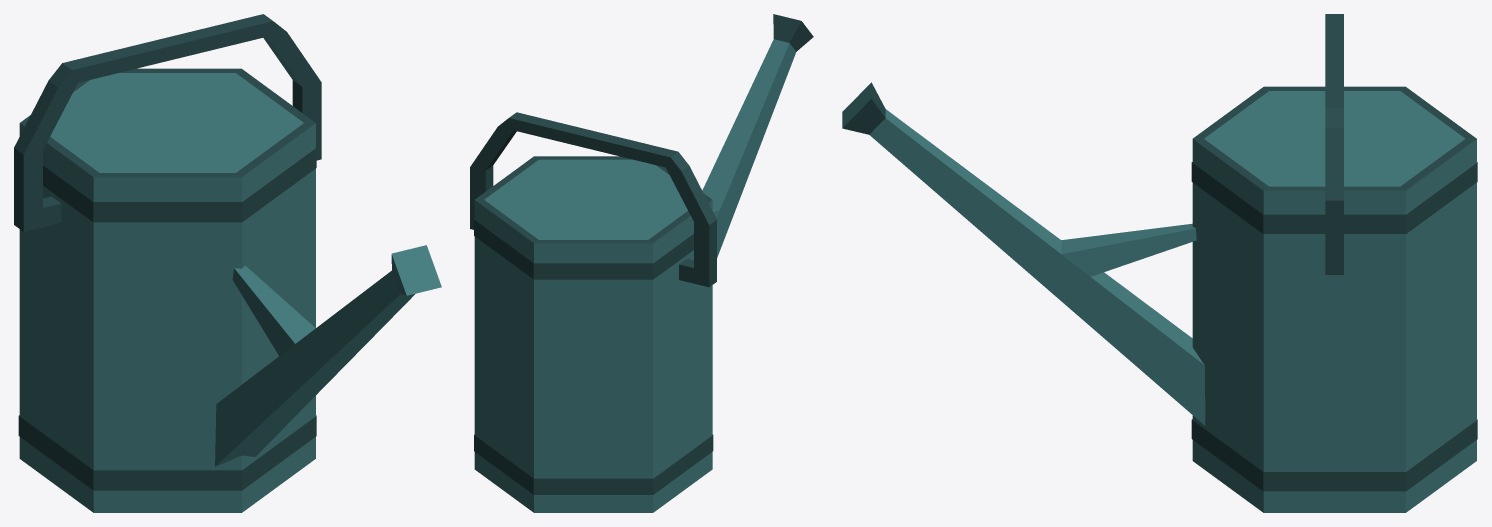
Rendered from Watering_Can_2_Blue.fbx.
The picture shows the model from 3 angles, left to right: view 1: azimuth 30°, elevation 25°; view 2: azimuth 150°, elevation 25°; view 3: azimuth 270°, elevation 25°; orthographic projection. The views are drawn at different scales.
Visible parts, largest first — view 1: Watering_Can_2_Blue; view 2: Watering_Can_2_Blue; view 3: Watering_Can_2_Blue.
Boxes of the visible parts, bbox=[...] form: Watering_Can_2_Blue: bbox=[14, 14, 441, 512]; Watering_Can_2_Blue: bbox=[470, 14, 813, 512]; Watering_Can_2_Blue: bbox=[842, 14, 1477, 512].
Bounding box in the file's own units: 46.41 × 62.04 × 89.38.
